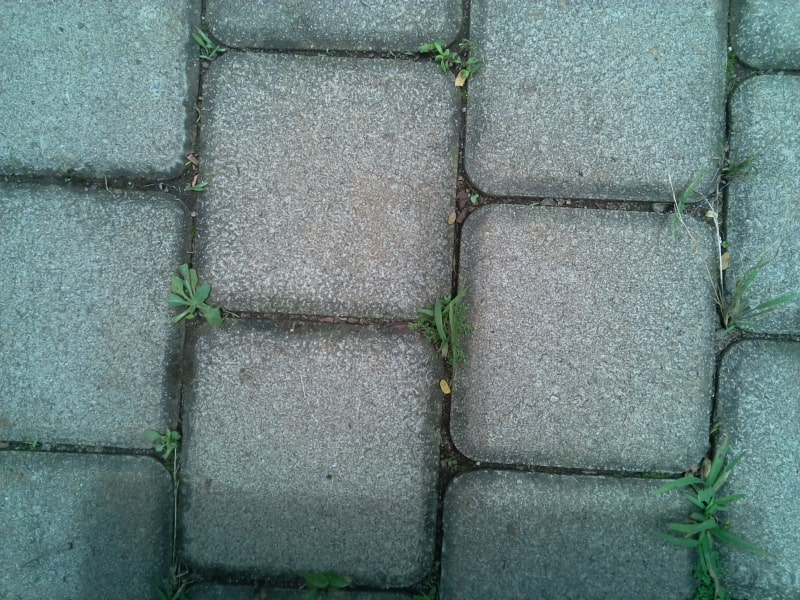Weed: (665, 175, 798, 332), (653, 450, 762, 583), (410, 291, 469, 372), (165, 262, 226, 332), (431, 37, 479, 82), (293, 566, 357, 599), (714, 151, 763, 189), (145, 426, 183, 467), (150, 569, 196, 600), (190, 25, 226, 62), (183, 177, 213, 198)
